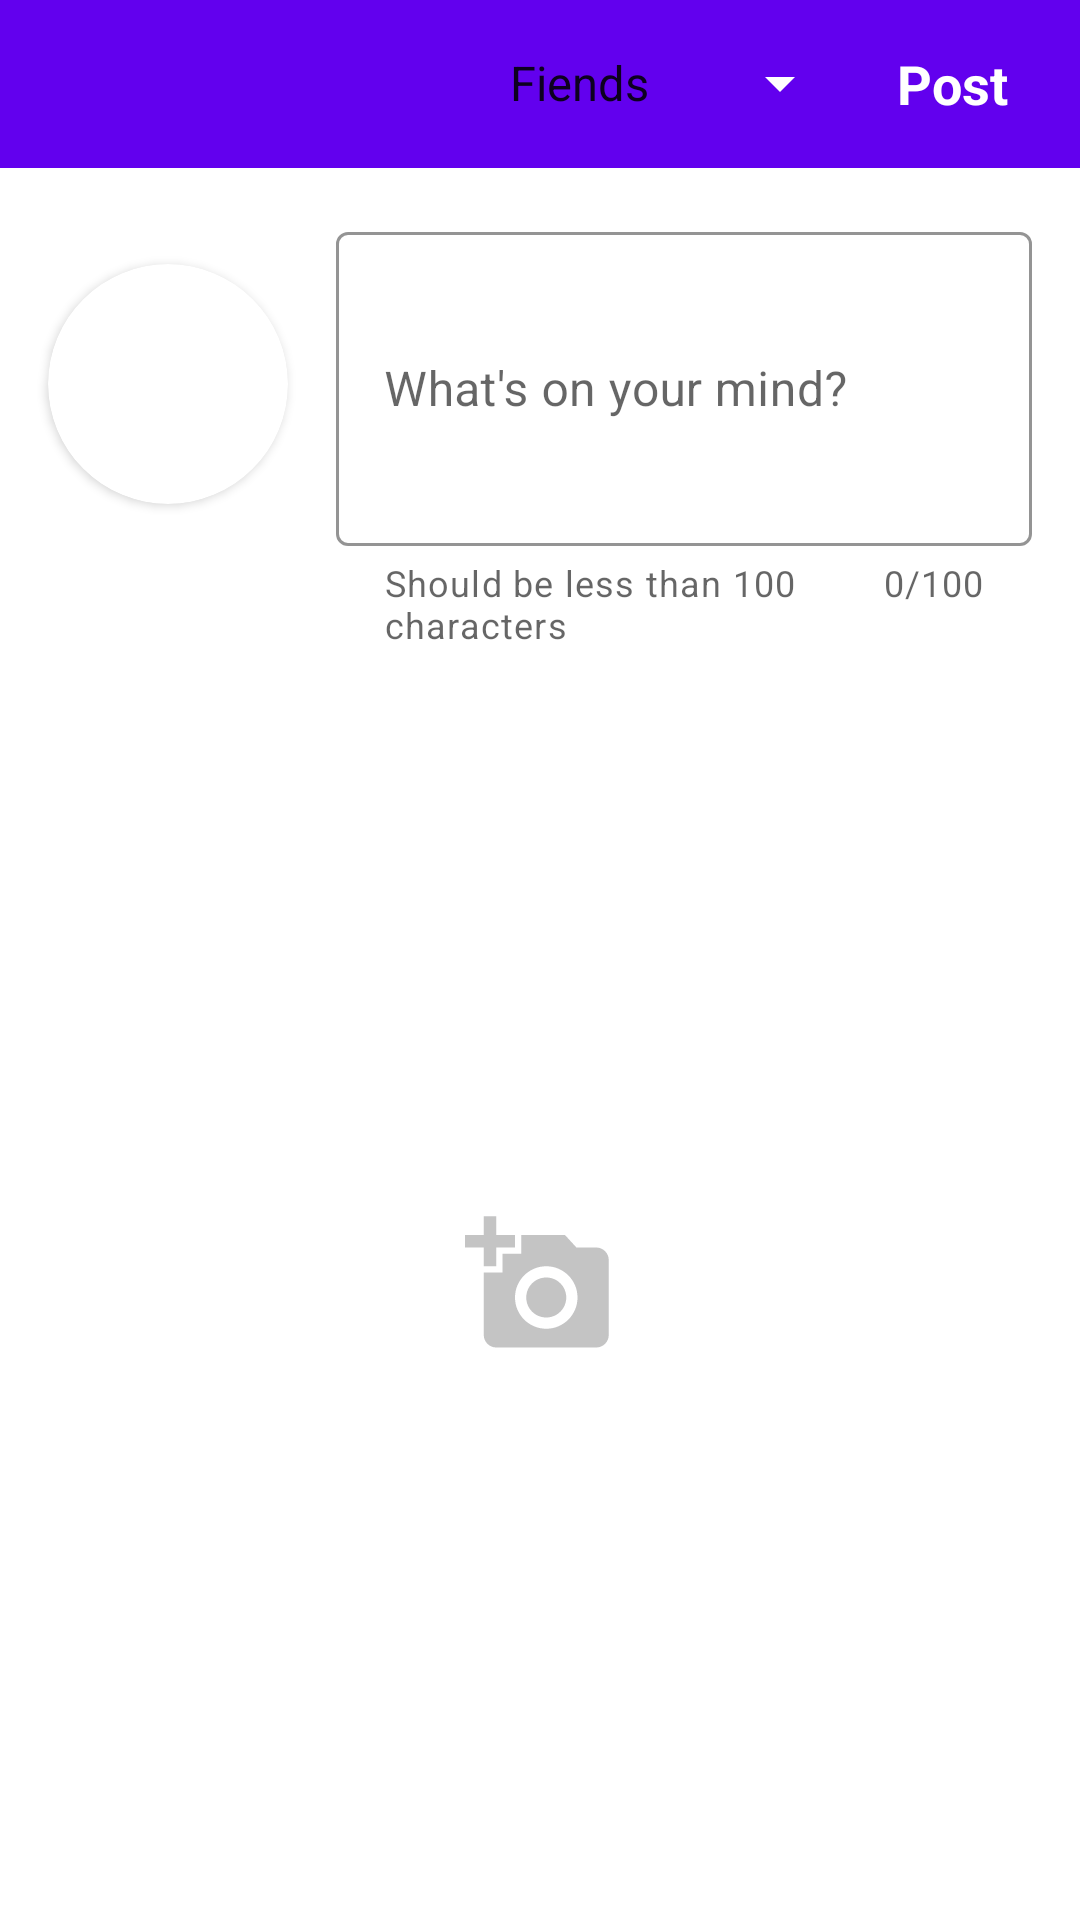

Icon click points for this 1080w x 1920h phone screenshot, format (x=x, y=y):
add photo: (x=537, y=1282)
